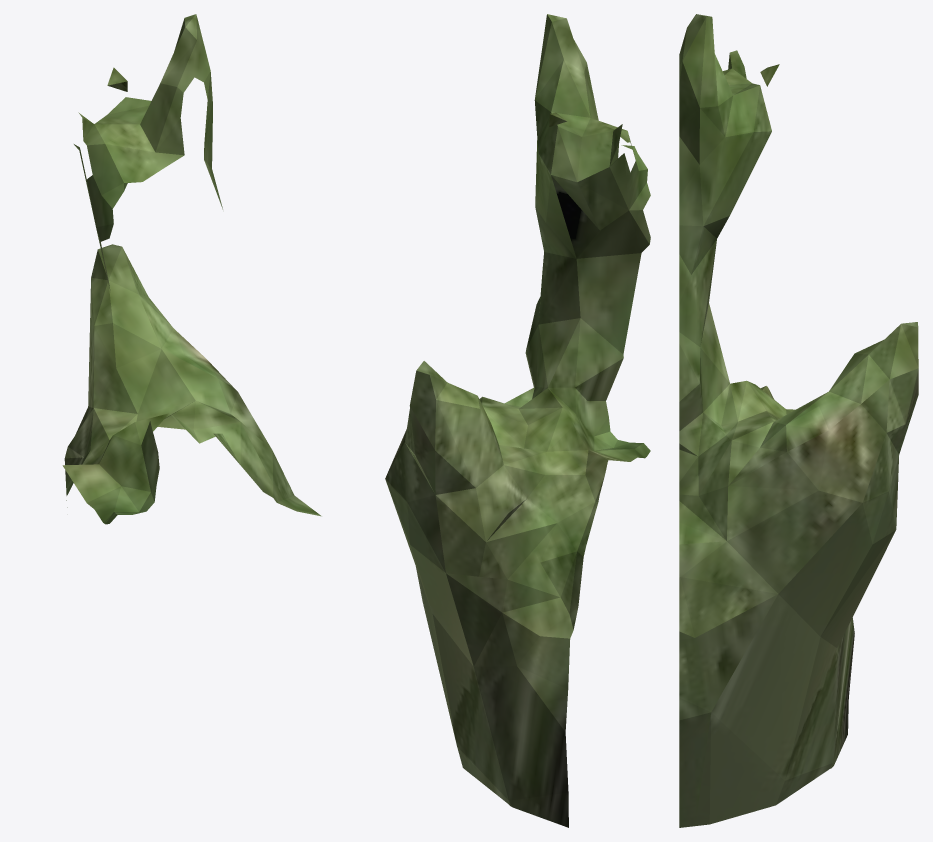
The picture shows the model from 3 angles, left to right: view 1: azimuth 30°, elevation 25°; view 2: azimuth 150°, elevation 25°; view 3: azimuth 270°, elevation 25°; orthographic projection. The views are drawn at different scales.
Bounding box in the file's own units: 0.7469 × 2.39 × 0.6801.
1 material, 1 textured.
